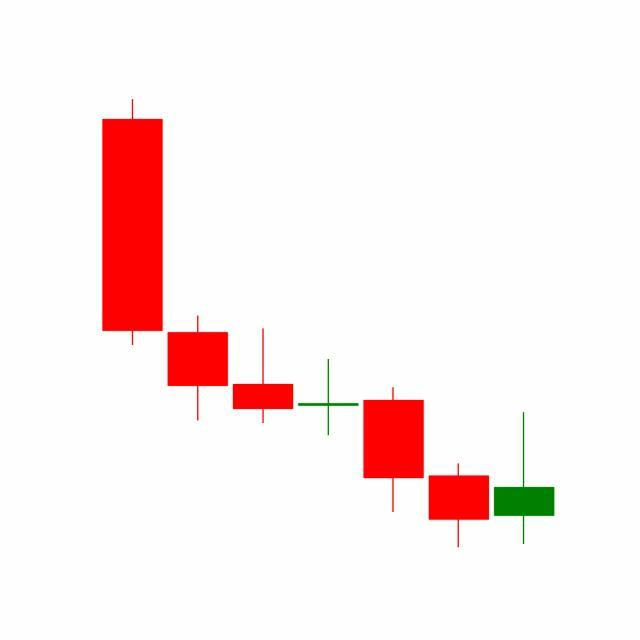Three Outside Up-Down: (295, 357, 492, 549)
